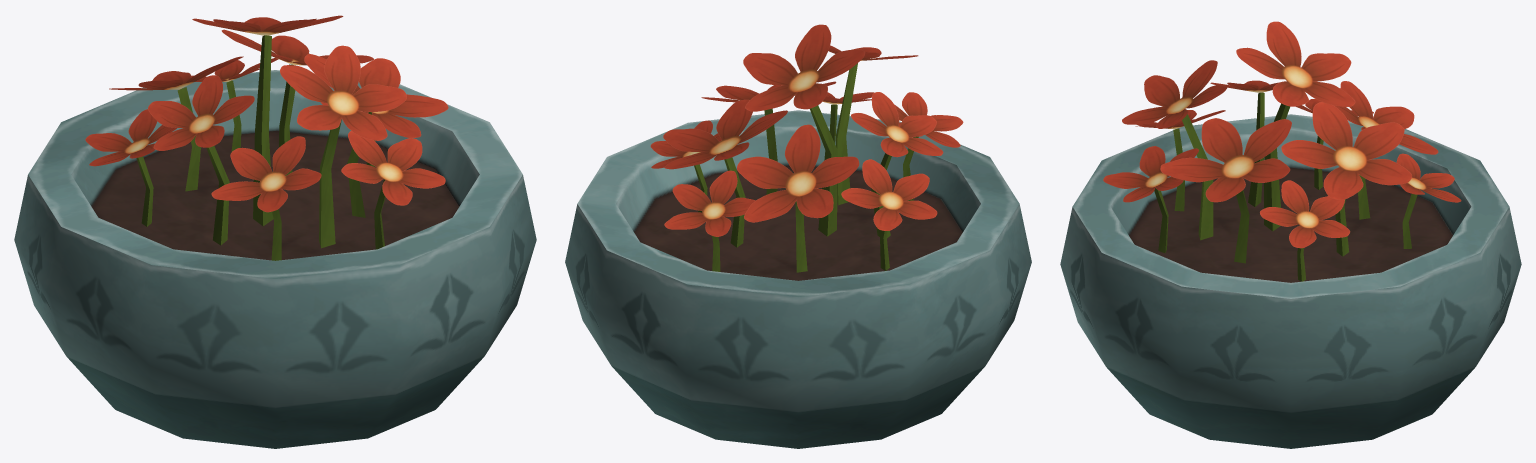
The model's file is flowerBowl2.fbx.
3 renders of one model, left to right at view 1: azimuth 30°, elevation 25°; view 2: azimuth 150°, elevation 25°; view 3: azimuth 270°, elevation 25°, orthographic. The views are drawn at different scales.
Parts seen in each view (by area): view 1: polySurface2259; view 2: polySurface2259; view 3: polySurface2259.
Part boxes in pixels (x1,y1,x2,y2): polySurface2259: (14, 15, 536, 448); polySurface2259: (565, 24, 1031, 448); polySurface2259: (1060, 21, 1521, 448).
Size of the model in its own units: 0.7908 by 0.6357 by 0.7908.
